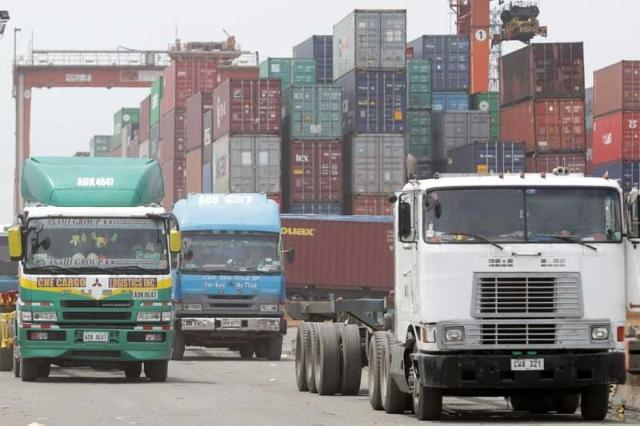truck: (371, 168, 633, 417), (0, 157, 177, 377), (167, 192, 294, 360)
